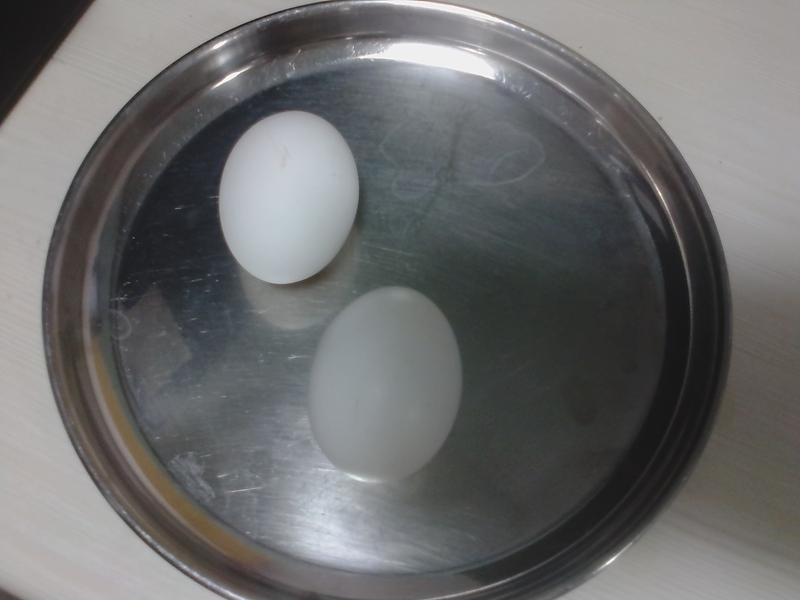egg: (217, 110, 360, 285)
